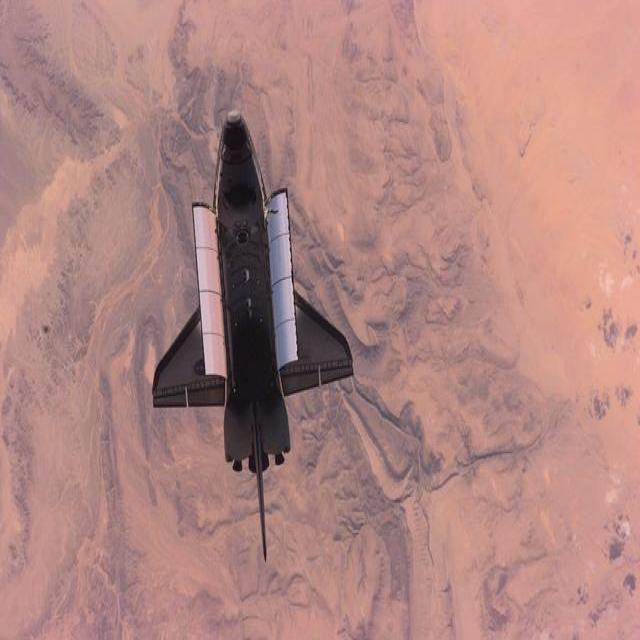satellite: (152, 113, 352, 556)
